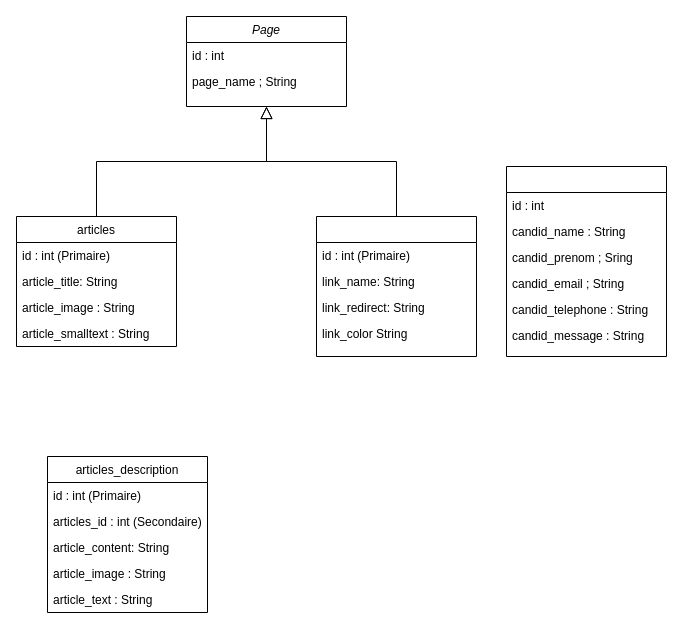
Some shapes in this 683 by 629 pixel diagram are drawn without their labels. Each missing label, with the box of its shape:
Candidacy: (506, 166, 666, 356)
links: (316, 216, 476, 356)
